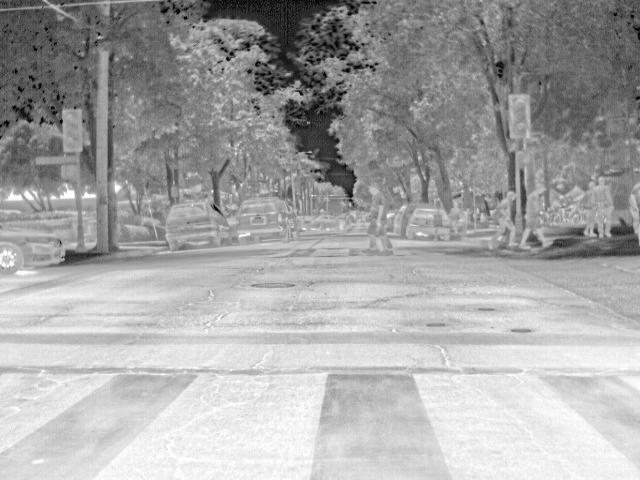car: (164, 197, 241, 251), (1, 226, 69, 276), (237, 194, 302, 243), (405, 206, 451, 242), (303, 214, 339, 230)
person: (517, 181, 552, 250), (363, 182, 394, 254), (486, 190, 522, 250), (593, 174, 615, 240), (580, 179, 597, 239)
